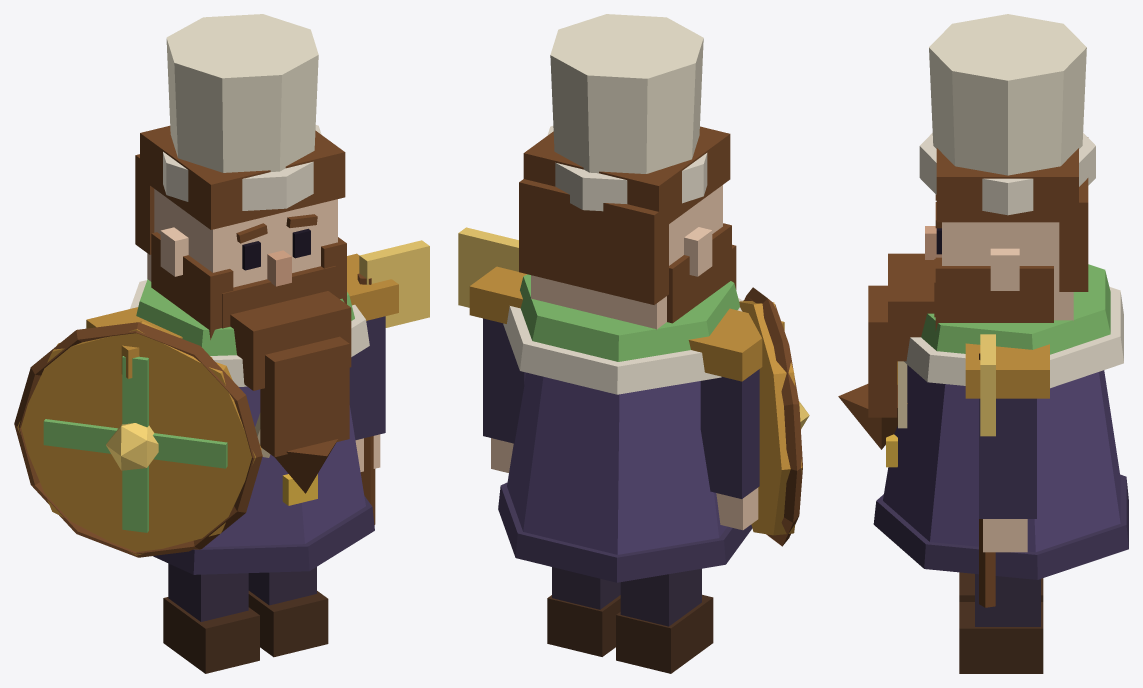
File: kalkaneri-borklu-baltali.obj
3 views of the same model, side by side, from view 1: azimuth 30°, elevation 25°; view 2: azimuth 150°, elevation 25°; view 3: azimuth 270°, elevation 25° (orthographic).
Parts seen in each view (by area): view 1: kalkan, uzun-sakal, bork, sac, cizmeler, govde, kafa, kalkan-amblemi, kalkan-cemberi, etek, bacaklar, balta-agzi (+12 smaller); view 2: govde, bork, sac, kollar, atki, cizmeler, etek, kurk-yaka, omuzluk, kalkan, bacaklar, kafa (+6 smaller); view 3: govde, bork, uzun-sakal, sac, etek, kollar, atki, kafa, kurk-yaka, cizmeler, omuzluk, bork-kurku (+6 smaller).
Part boxes in pixels (x1=…): kalkan: x1=17, y1=321, x2=261, y2=555; uzun-sakal: x1=151, y1=232, x2=351, y2=493; bork: x1=166, y1=14, x2=318, y2=172; sac: x1=135, y1=125, x2=345, y2=254; cizmeler: x1=163, y1=591, x2=328, y2=673; govde: x1=204, y1=386, x2=365, y2=547; kafa: x1=147, y1=189, x2=337, y2=287; kalkan-amblemi: x1=43, y1=356, x2=227, y2=532; kalkan-cemberi: x1=14, y1=322, x2=262, y2=557; etek: x1=153, y1=496, x2=374, y2=574; bacaklar: x1=168, y1=563, x2=316, y2=621; balta-agzi: x1=359, y1=240, x2=429, y2=327; govde: x1=507, y1=372, x2=727, y2=554; bork: x1=550, y1=14, x2=703, y2=173; sac: x1=519, y1=126, x2=730, y2=304; kollar: x1=483, y1=318, x2=759, y2=498; atki: x1=520, y1=274, x2=739, y2=361; cizmeler: x1=547, y1=594, x2=713, y2=673; etek: x1=498, y1=482, x2=752, y2=582; kurk-yaka: x1=503, y1=298, x2=742, y2=394; omuzluk: x1=469, y1=266, x2=784, y2=381; kalkan: x1=739, y1=300, x2=802, y2=535; bacaklar: x1=552, y1=567, x2=701, y2=626; kafa: x1=531, y1=185, x2=722, y2=329; govde: x1=883, y1=365, x2=1120, y2=552; bork: x1=929, y1=14, x2=1086, y2=175; uzun-sakal: x1=838, y1=202, x2=1053, y2=449; sac: x1=936, y1=137, x2=1088, y2=291; etek: x1=873, y1=474, x2=1128, y2=579; kollar: x1=979, y1=398, x2=1036, y2=518; atki: x1=921, y1=264, x2=1110, y2=354; kafa: x1=942, y1=222, x2=1073, y2=320; kurk-yaka: x1=904, y1=287, x2=1123, y2=388; cizmeler: x1=959, y1=572, x2=1043, y2=673; omuzluk: x1=965, y1=343, x2=1049, y2=398; bork-kurku: x1=919, y1=133, x2=1095, y2=215.
Bounding box in the file's own units: 32.81 × 50 × 22.09.
